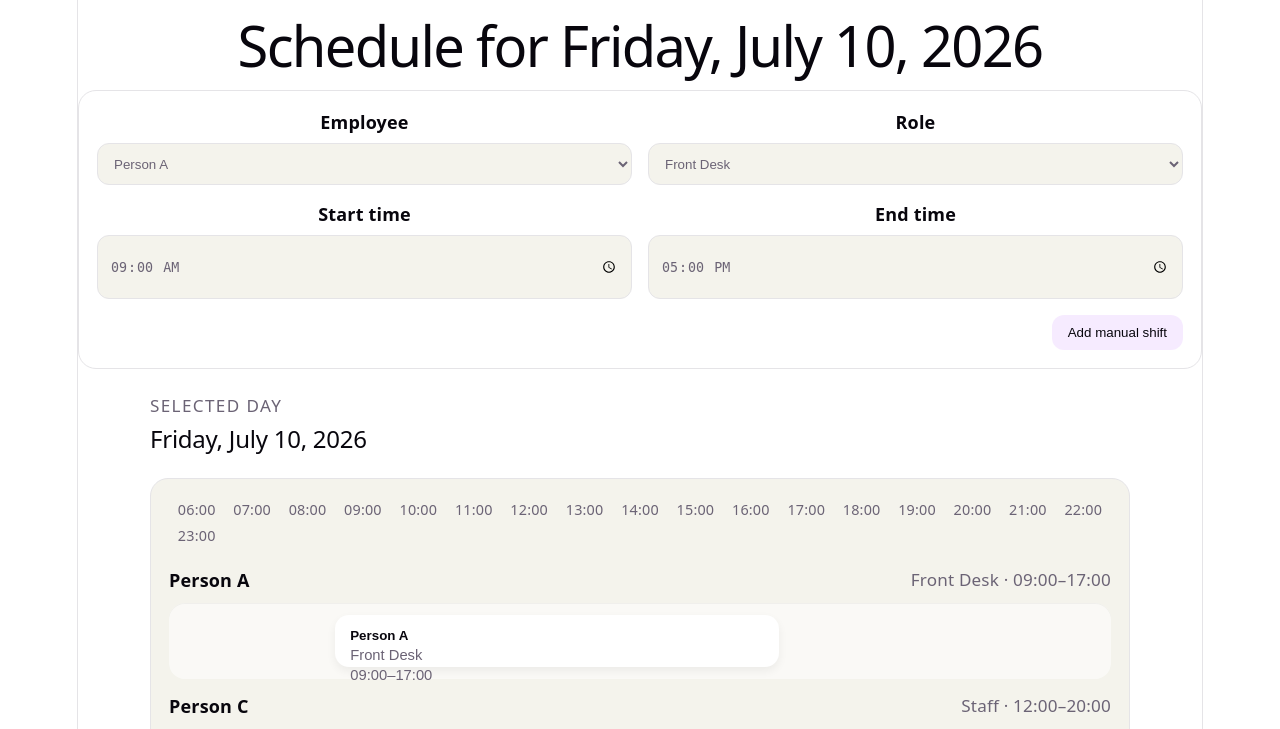
Test: ScheduleDatePage › shows a validation error when the time range is invalid
Select "Person B" in the dropdown labelled "Employee" at (364, 164), box [97,143,632,185]
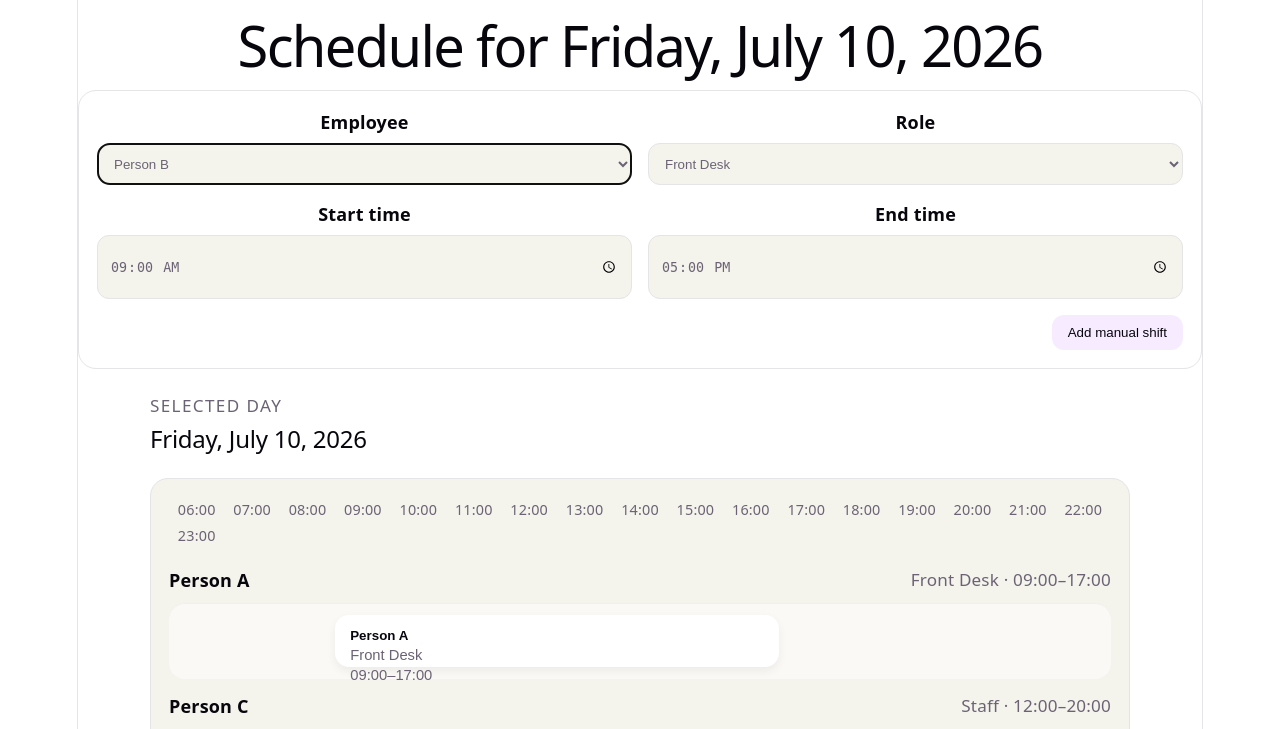
Replace the text in the time field labelled "Start time" with "18:00" at (364, 267), box [97,235,632,299]
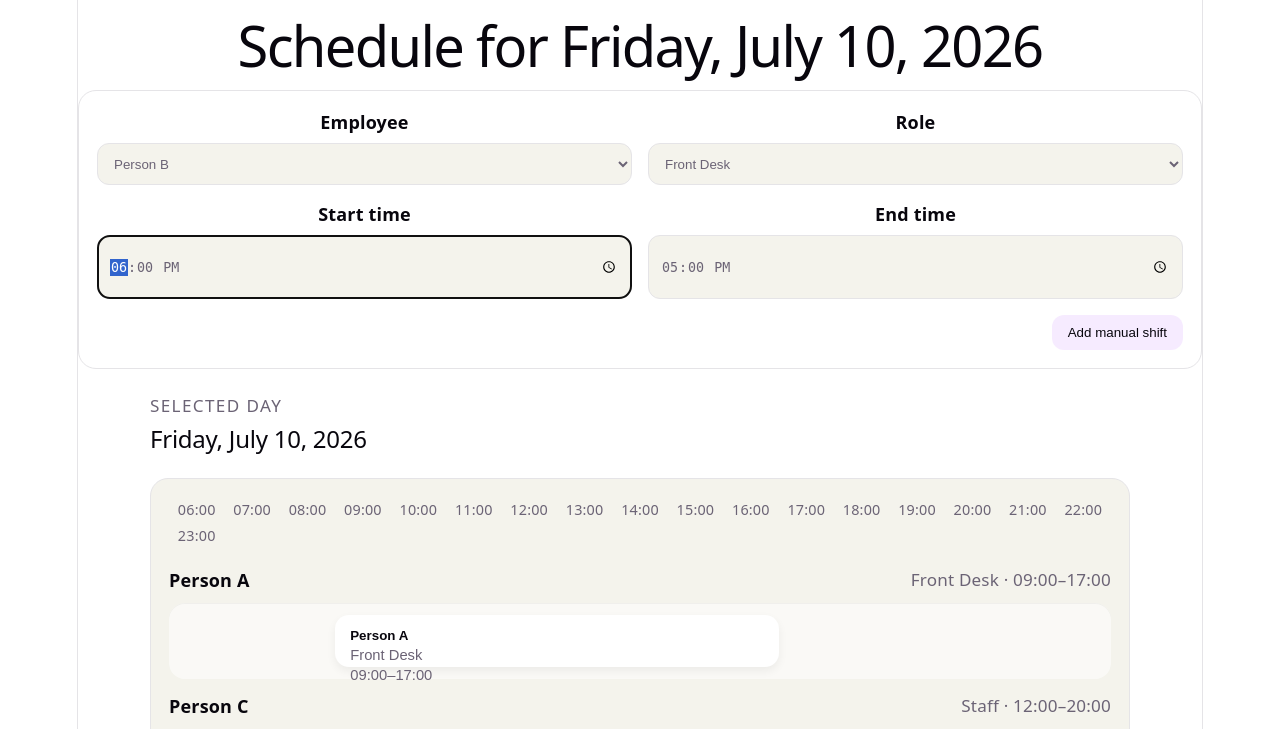
Replace the text in the time field labelled "End time" with "10:00" at (916, 267), box [648,235,1183,299]
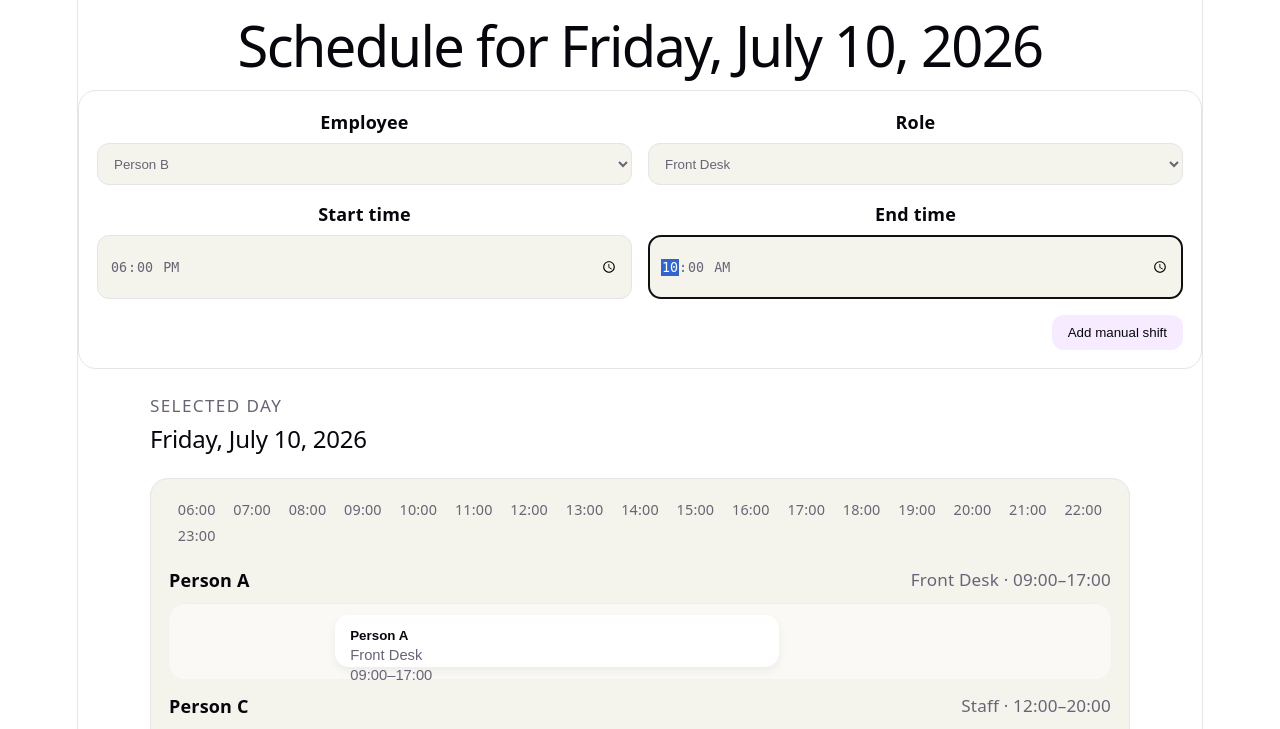
Click the button "Add manual shift".
click(1117, 333)  # box [1052,315,1183,350]
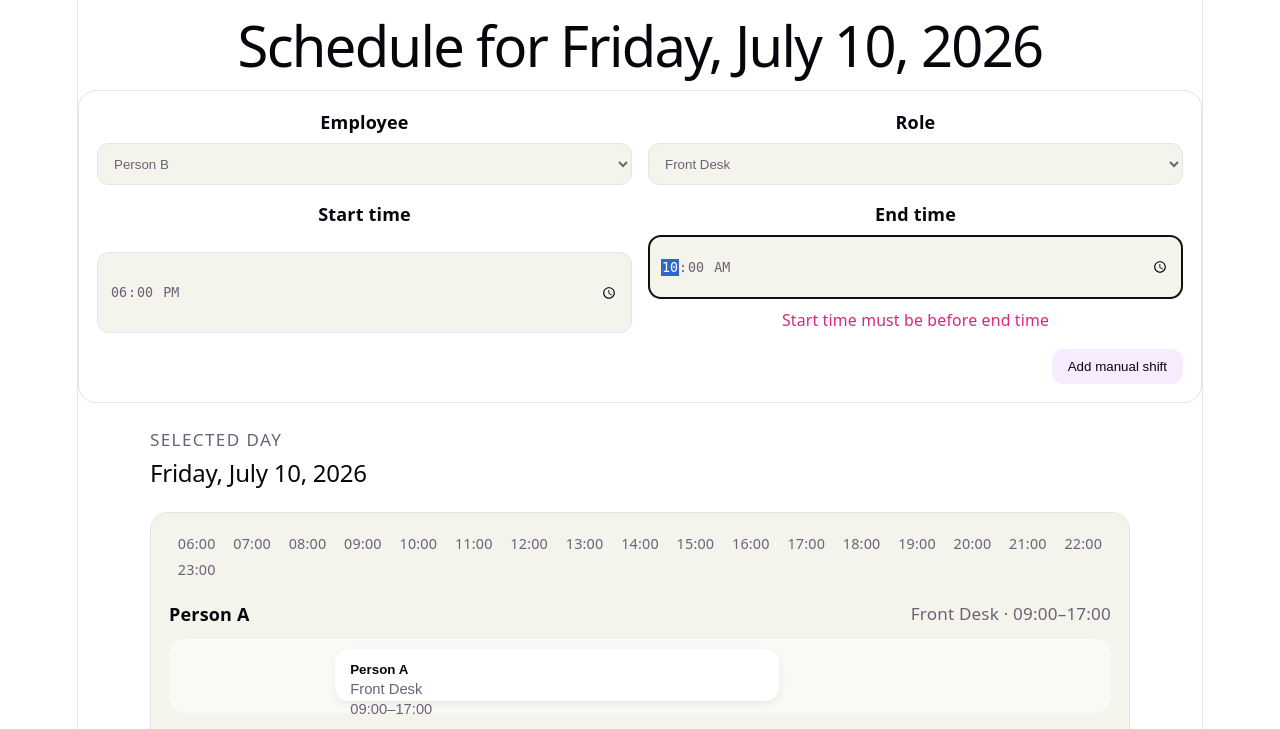
Check: the text "Start time must be before end time" is shown, box [782,309,1049,331]
